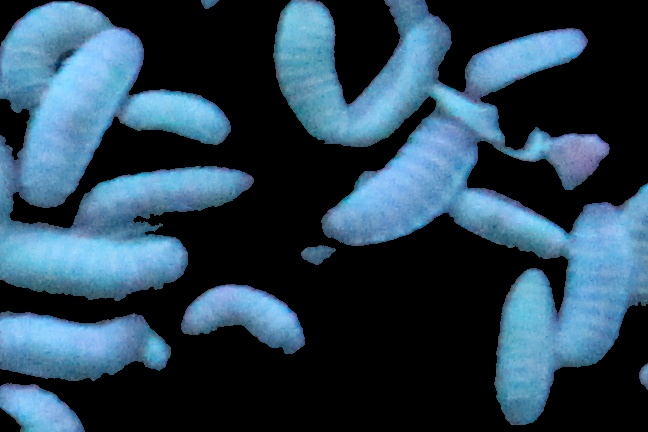larvae: (20, 34, 135, 207), (324, 123, 474, 246), (555, 196, 632, 370), (367, 1, 450, 138), (490, 272, 560, 423), (1, 228, 167, 291), (3, 2, 93, 111), (179, 282, 311, 356), (277, 2, 346, 137), (1, 318, 151, 376), (464, 25, 589, 93), (89, 172, 257, 218), (459, 184, 564, 252), (119, 90, 232, 145), (2, 377, 87, 432), (1, 147, 3, 267)
